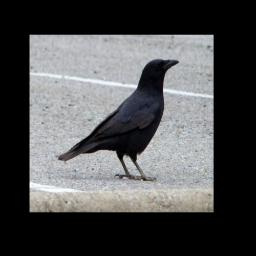Crow: (57, 58, 180, 181)
